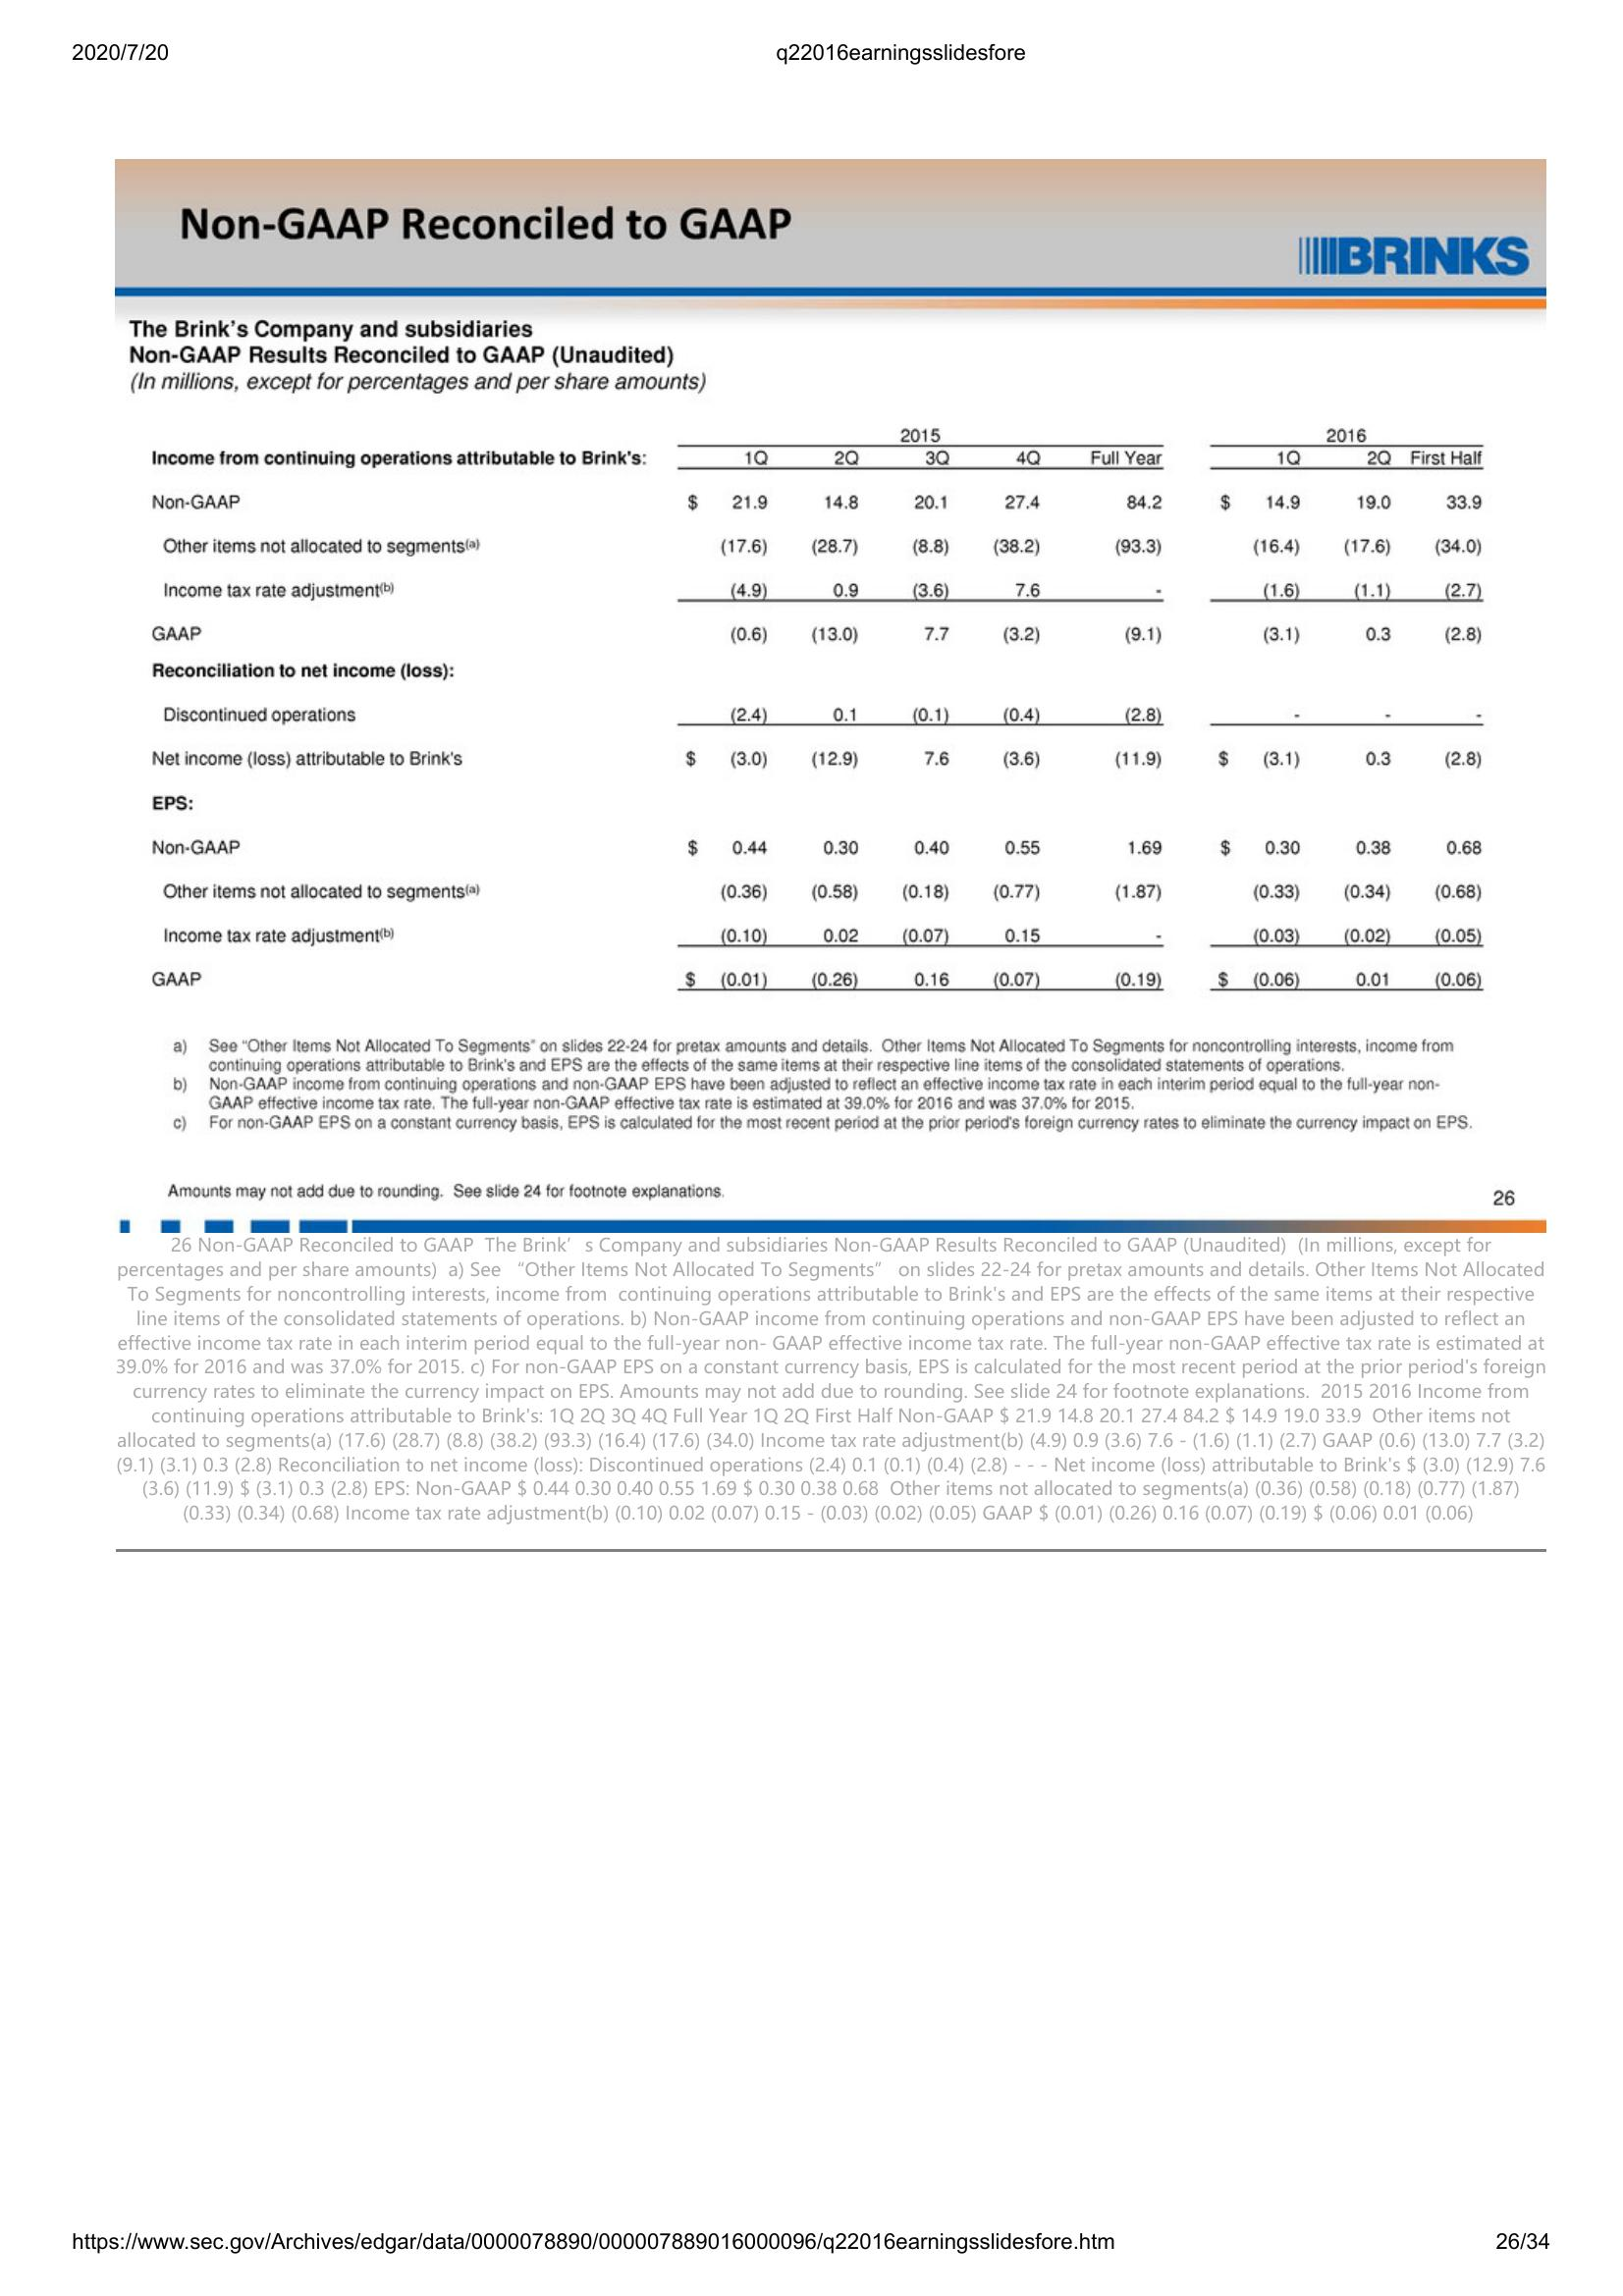table: (146, 416, 1497, 1013)
